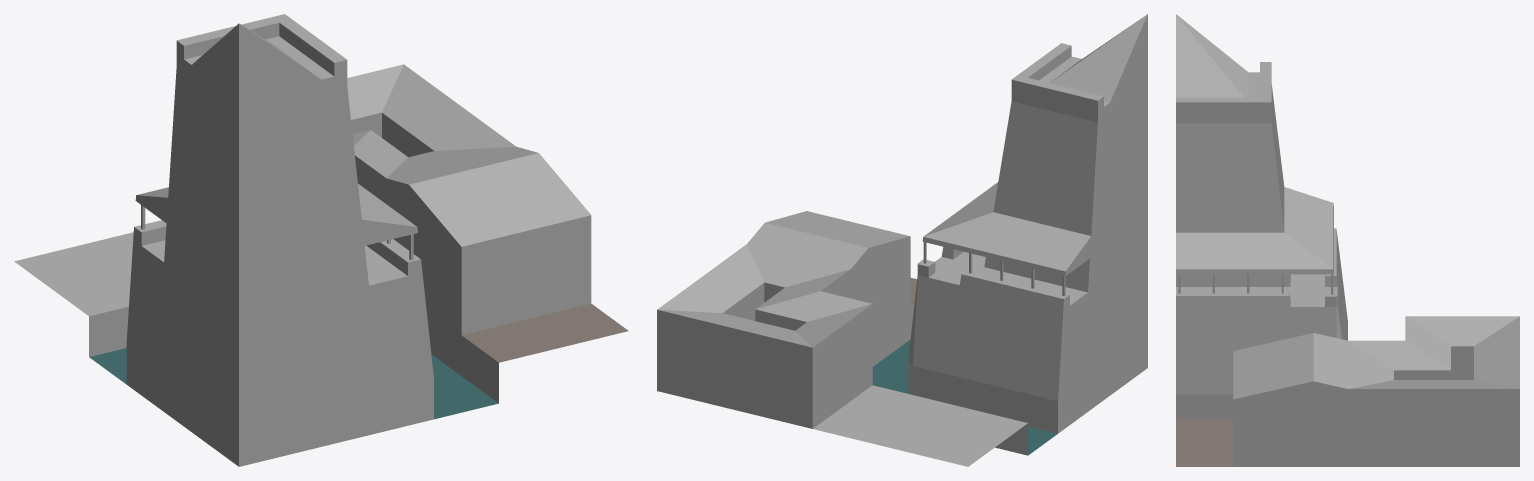
The picture shows the model from 3 angles, left to right: view 1: azimuth 30°, elevation 25°; view 2: azimuth 150°, elevation 25°; view 3: azimuth 270°, elevation 25°; orthographic projection. The views are drawn at different scales.
Parts seen in each view (by area): view 1: w2rc; view 2: w2rc; view 3: w2rc.
Boxes of the visible parts, x1,y1,x2,y2 form: w2rc: [14, 14, 628, 466]; w2rc: [657, 14, 1147, 466]; w2rc: [1176, 14, 1519, 466].
Bounding box in the file's own units: 30 × 32.63 × 30.
